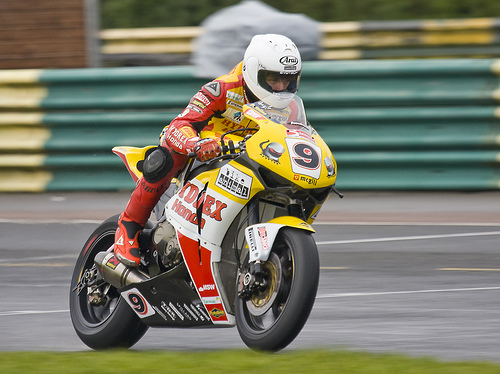helmet: (242, 32, 302, 108)
